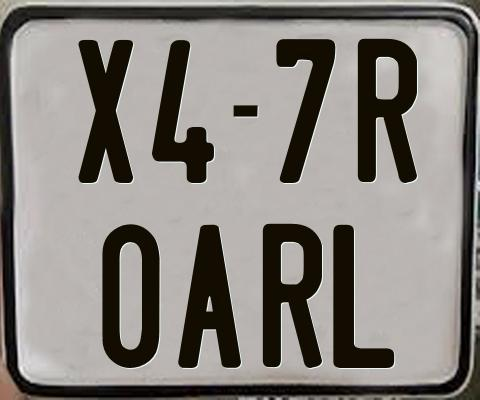0: (101, 222, 163, 372)
4: (149, 40, 212, 186)
7: (273, 37, 338, 184)
A: (177, 224, 244, 372)
L: (331, 222, 396, 371)
R: (261, 223, 324, 367), (358, 36, 417, 182)
X: (77, 40, 133, 183)
